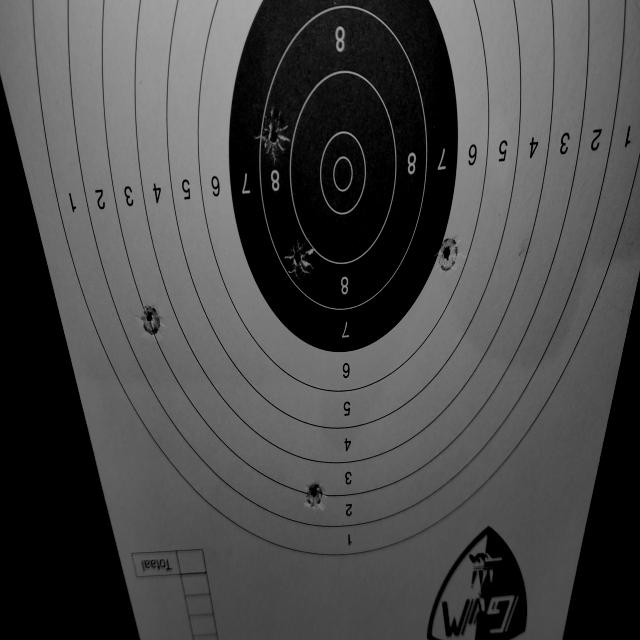3: (134, 304, 166, 339), (304, 479, 327, 514)
7: (434, 234, 464, 277)
8: (254, 104, 292, 164)
9: (283, 236, 317, 281)
Target: (30, 0, 640, 561)
black_contour: (228, 0, 461, 352)
